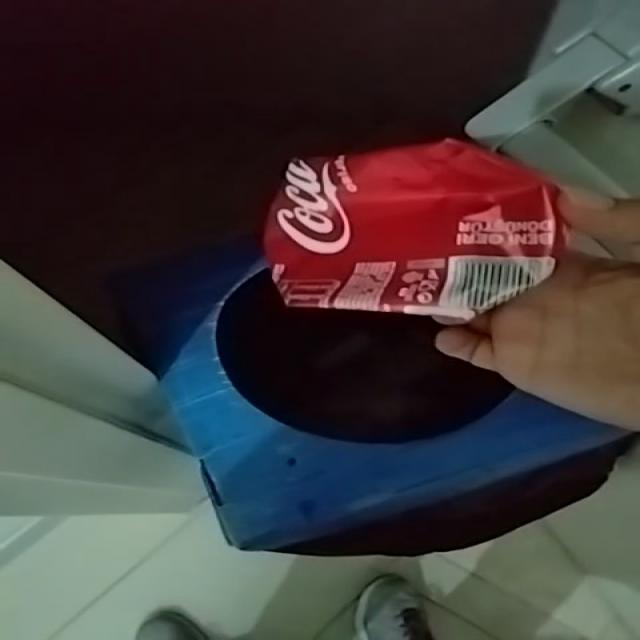bin: (161, 263, 633, 556)
metal: (264, 139, 565, 320)
